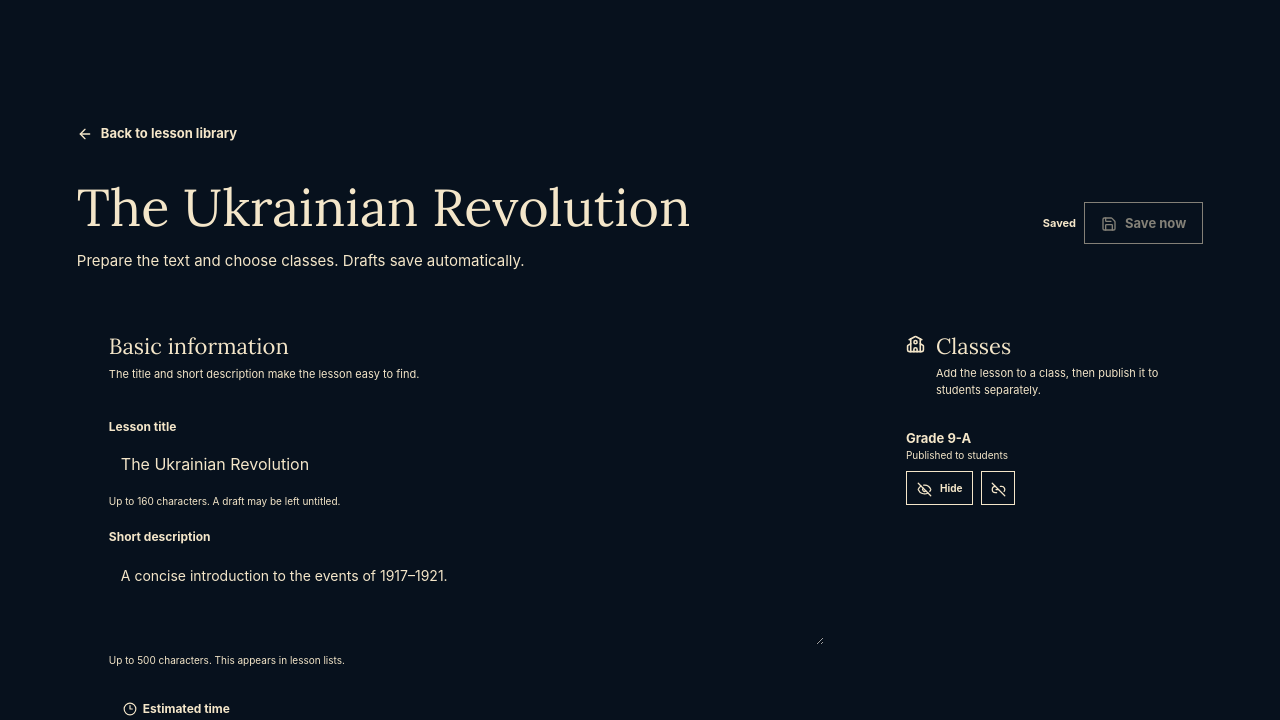
Scenario: teacher lesson workspace › shows an unlink failure inside its confirmation dialog
This screenshot has width=1280, height=720.
Click the button named "Remove from class Grade 9-A" at [998, 488], box [981,471,1015,505]
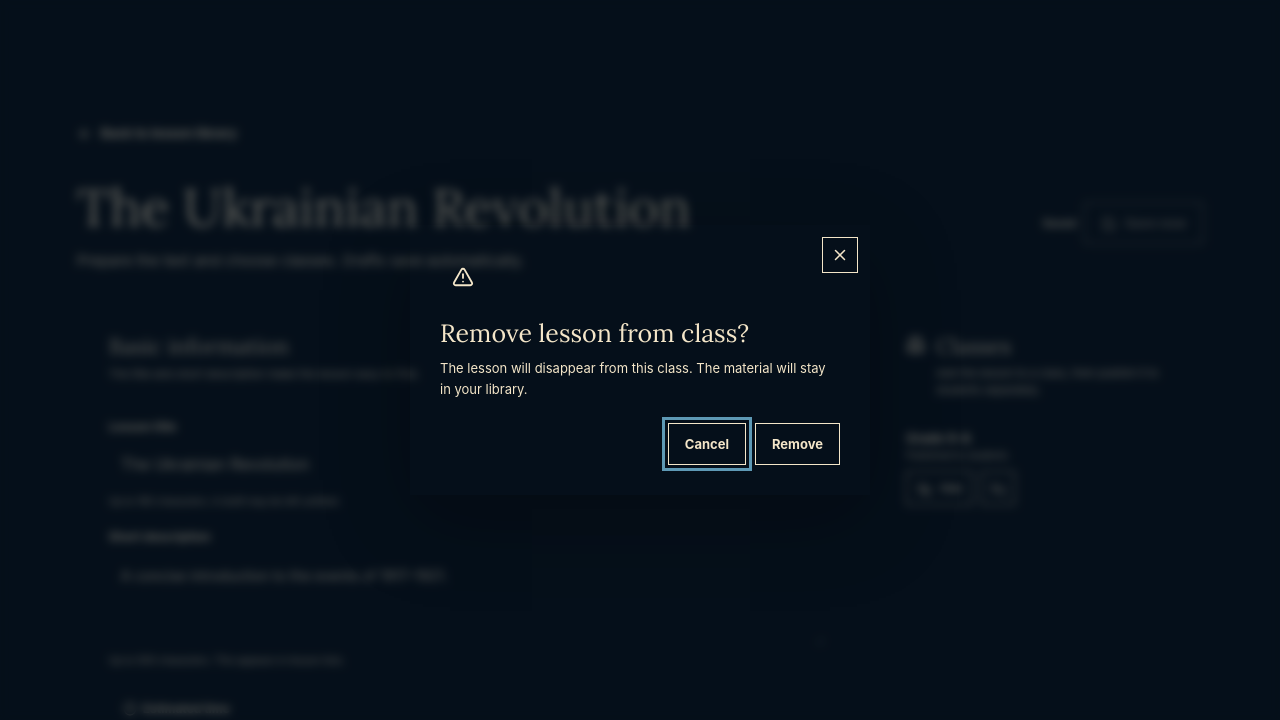
Click the button "Remove" at [798, 444], box [755,423,840,465]
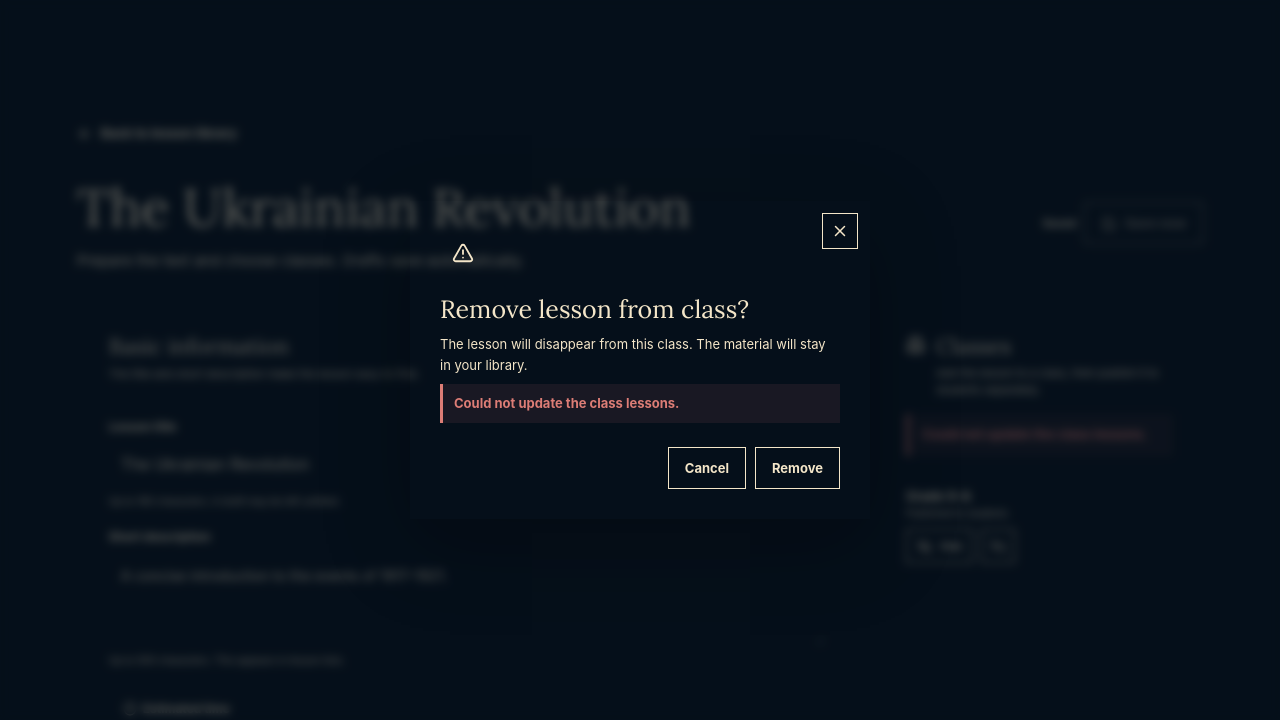
expect the message "Could not update the class lessons." is shown: met, box [440,384,840,423]
